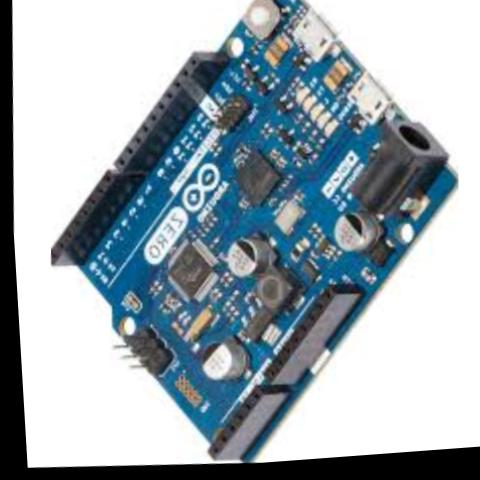Arduino-Zero: (24, 0, 478, 479)
